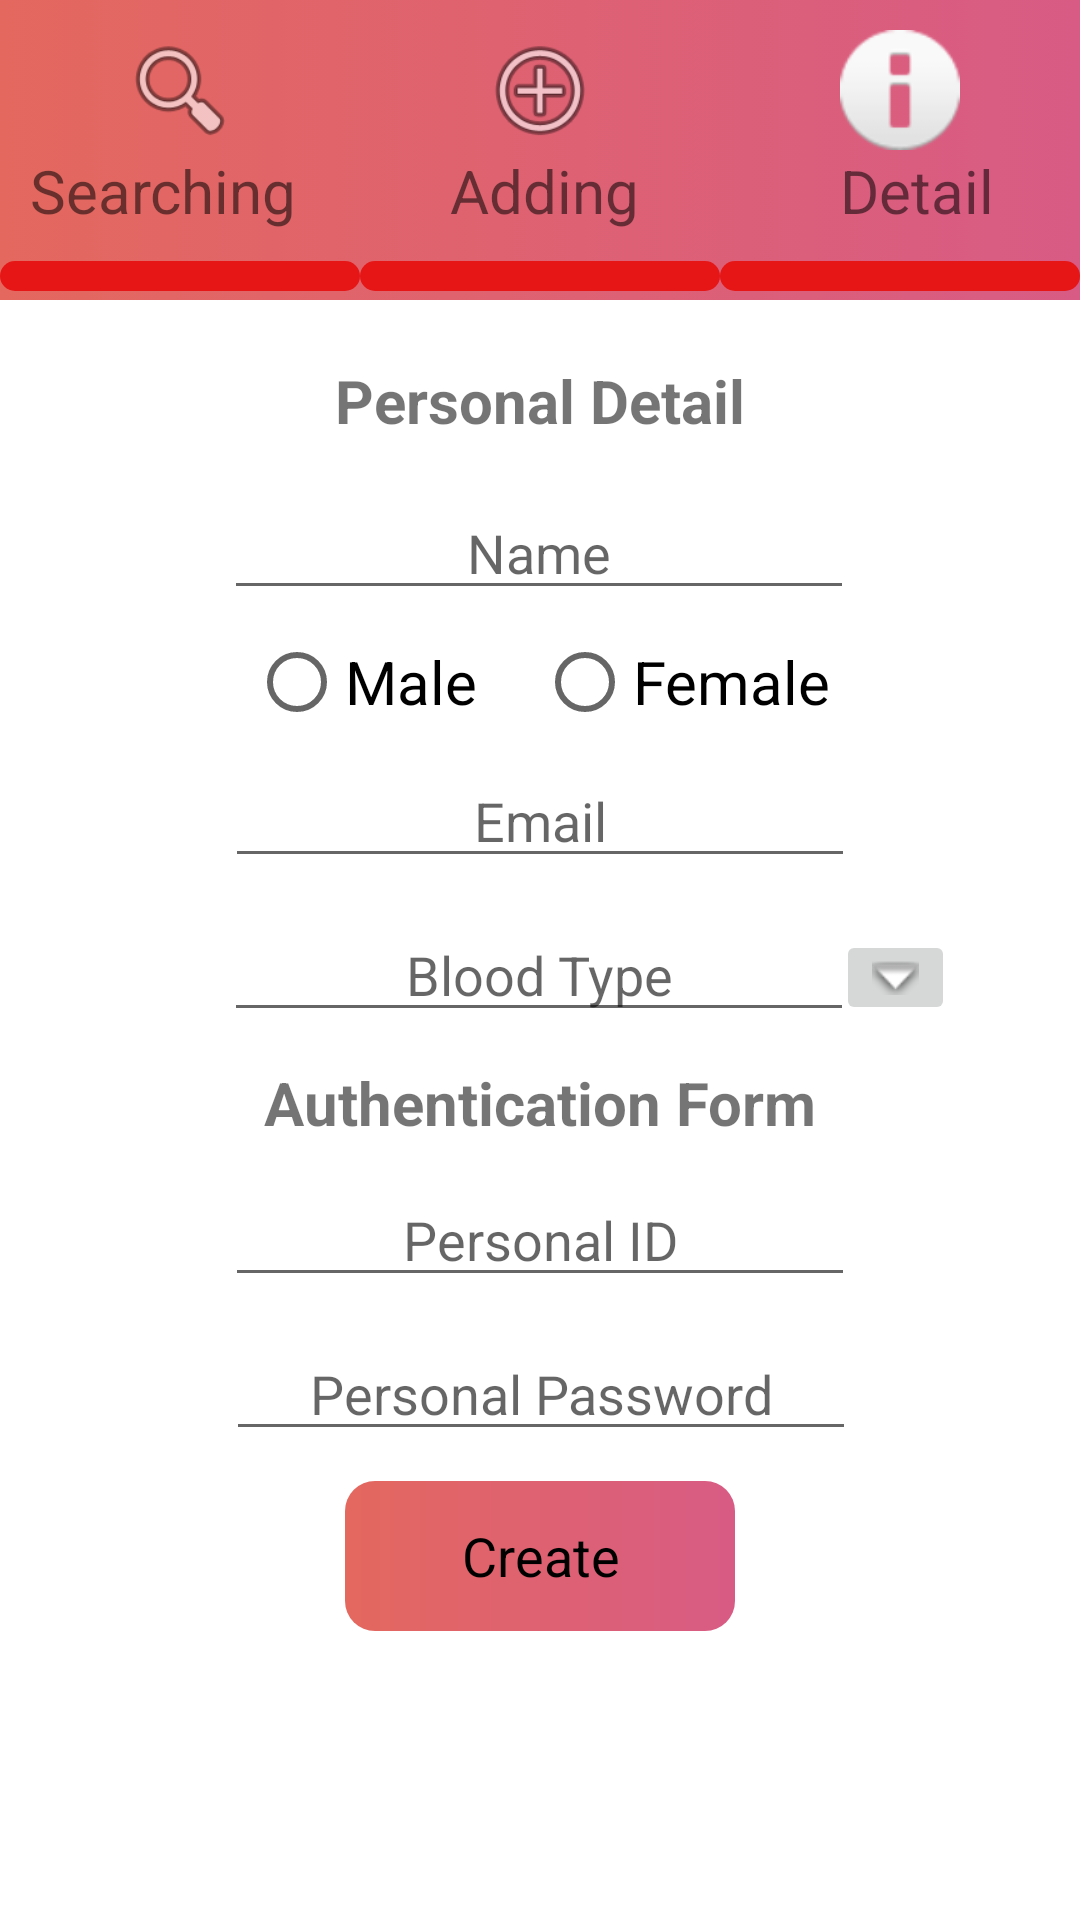

Icons on this 1080*1920 Android screen, each with the point to tap as point (x, y):
add: point (540, 90)
arrow down float: point (895, 977)
info: point (900, 90)
